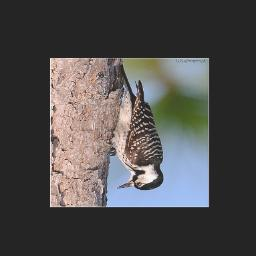Woodpecker: (106, 59, 167, 194)
